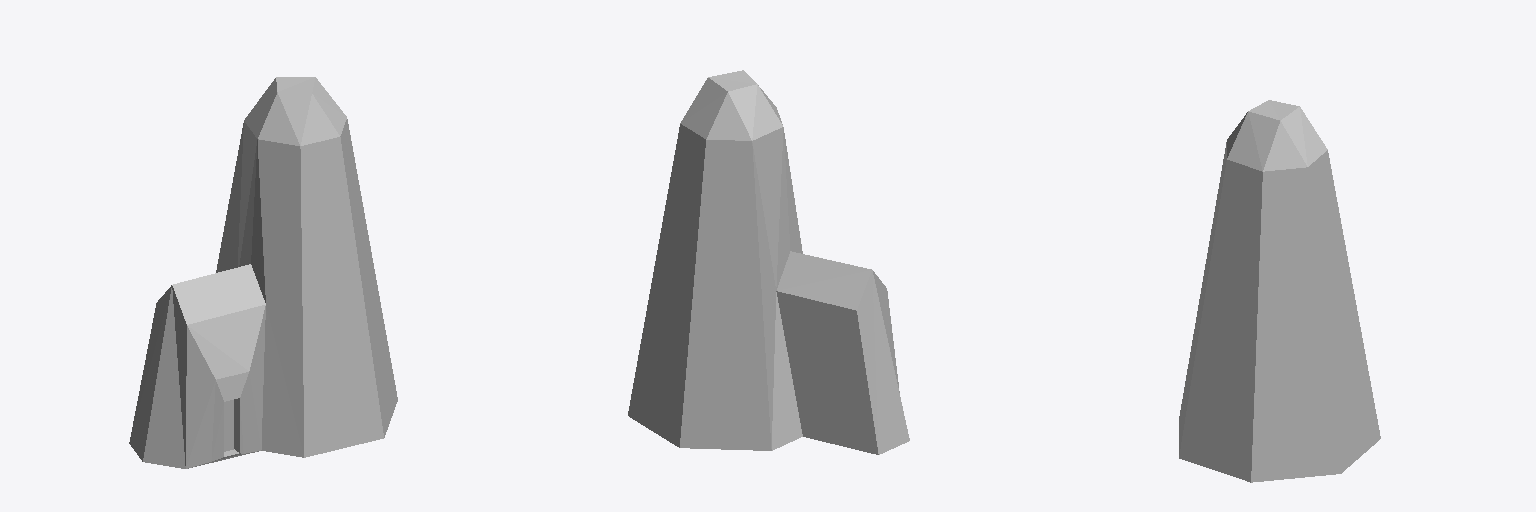
The model's file is stor.obj.
The picture shows the model from 3 angles: view 1: azimuth 30°, elevation 25°; view 2: azimuth 150°, elevation 25°; view 3: azimuth 270°, elevation 25°; orthographic projection.
Parts seen in each view (by area): view 1: Cone; view 2: Cone; view 3: Cone.
Boxes of the visible parts, x1,y1,x2,y2 form: Cone: [129, 77, 397, 468]; Cone: [628, 70, 909, 454]; Cone: [1179, 100, 1380, 482].
Bounding box in the file's own units: 5.54 × 6.82 × 3.8.